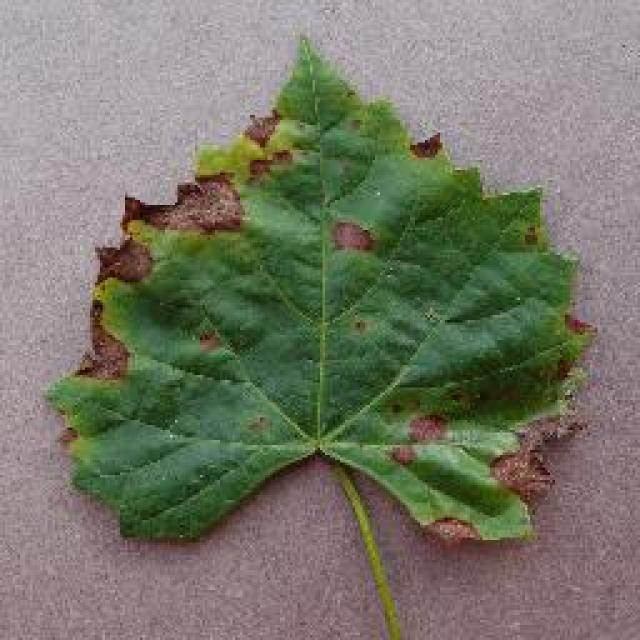Grape___Black_rot: (43, 23, 608, 551)
